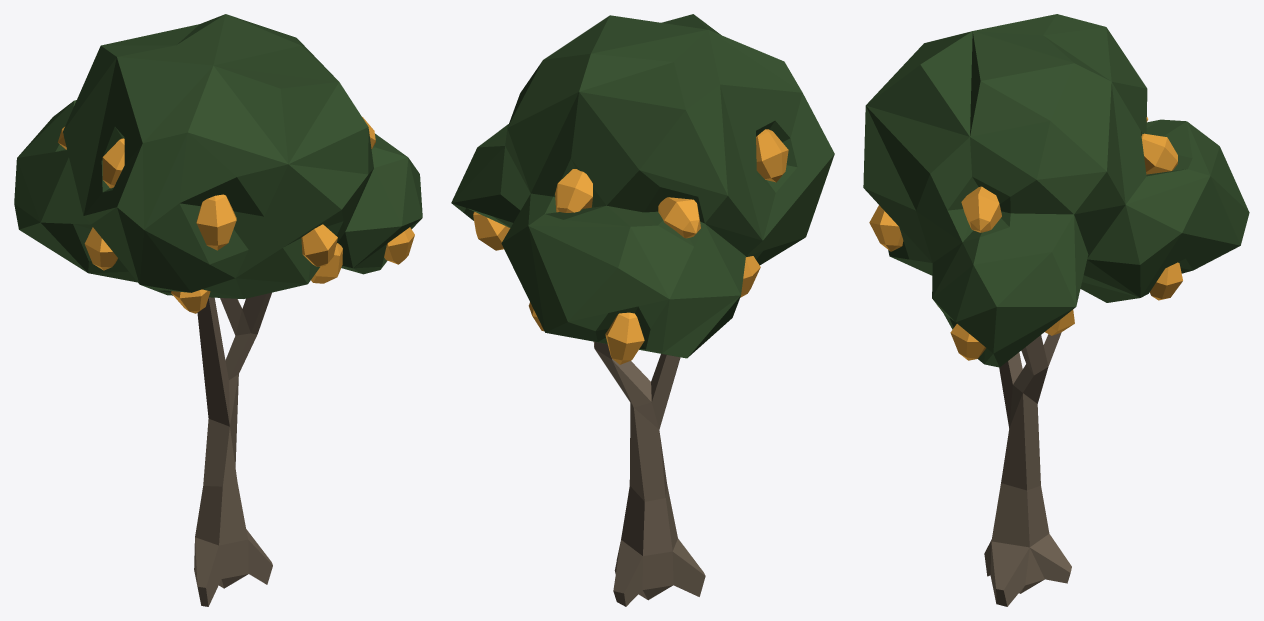
Rendered from SM_Env_Tree_Lemon_Grown_01.glb.
The picture shows the model from 3 angles, left to right: view 1: azimuth 30°, elevation 25°; view 2: azimuth 150°, elevation 25°; view 3: azimuth 270°, elevation 25°; orthographic projection. The views are drawn at different scales.
Visible parts, largest first — view 1: SM_Env_Tree_Lemon_Grown_01; view 2: SM_Env_Tree_Lemon_Grown_01; view 3: SM_Env_Tree_Lemon_Grown_01.
Part boxes in pixels (x1,y1,x2,y2): SM_Env_Tree_Lemon_Grown_01: (14, 14, 422, 606); SM_Env_Tree_Lemon_Grown_01: (451, 14, 834, 606); SM_Env_Tree_Lemon_Grown_01: (863, 14, 1249, 606).
Bounding box in the file's own units: 1.73 × 2.76 × 1.77.
1 material, 1 textured.
